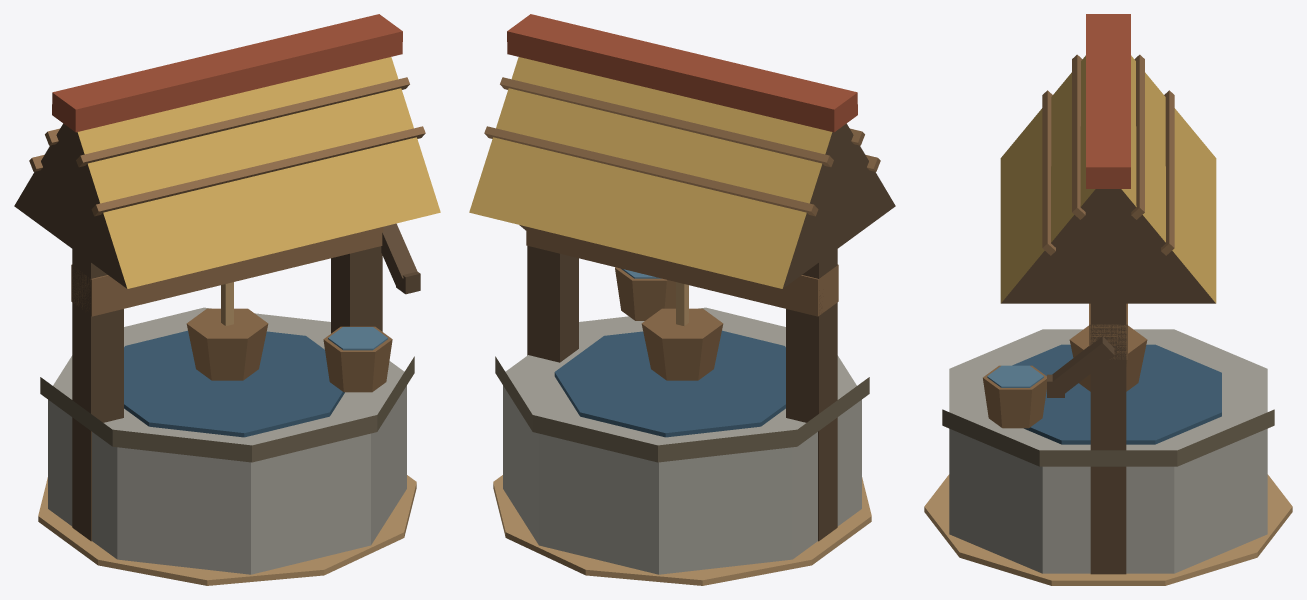
Rendered from well.glb.
The picture shows the model from 3 angles, left to right: view 1: azimuth 30°, elevation 25°; view 2: azimuth 150°, elevation 25°; view 3: azimuth 270°, elevation 25°; orthographic projection. The views are drawn at different scales.
Visible parts, largest first — view 1: well; view 2: well; view 3: well.
Boxes of the visible parts, box(x1,y1,x2,y2) form: well: box(14, 14, 440, 585); well: box(469, 14, 895, 585); well: box(924, 14, 1292, 585).
Bounding box in the file's own units: 2.4 × 3.11 × 2.46.
Materials: 1 (1 with a texture image).
